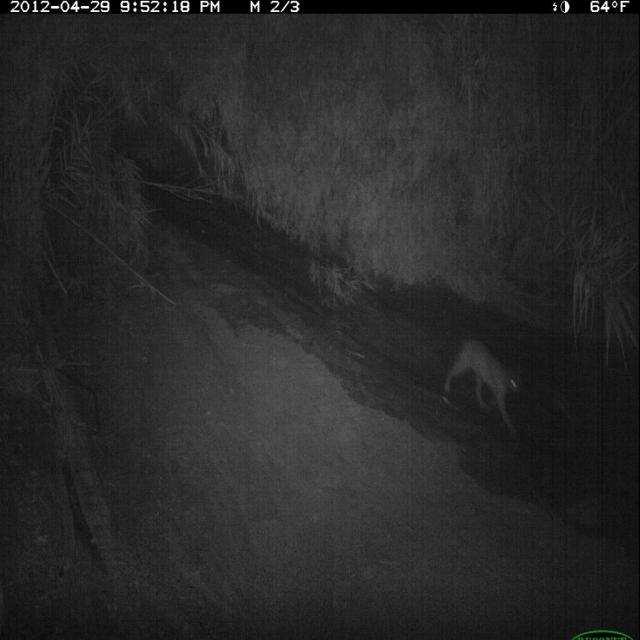bobcat: (440, 333, 528, 442)
